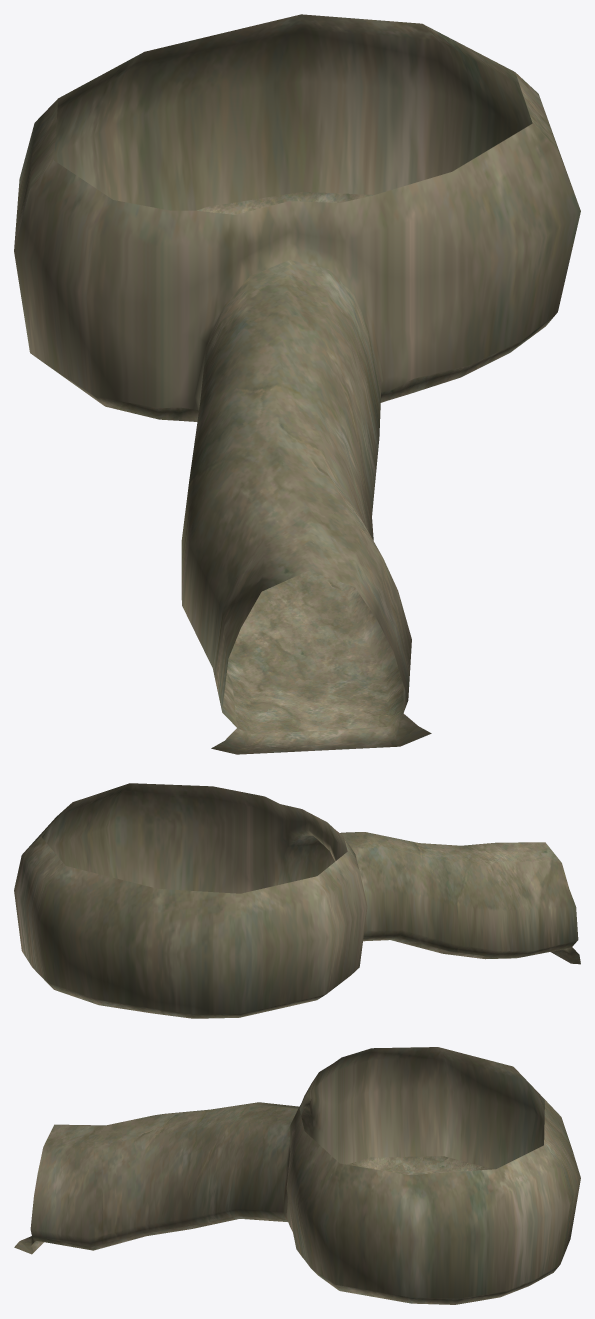
Rendered from OVERHILL_A_01_OBJECT22.fbx.
3 renders of one model, top to bottom at view 1: azimuth 30°, elevation 25°; view 2: azimuth 150°, elevation 25°; view 3: azimuth 270°, elevation 25°, orthographic. The views are drawn at different scales.
Parts seen in each view (by area): view 1: OVERHILL_A_01_OBJECT22; view 2: OVERHILL_A_01_OBJECT22; view 3: OVERHILL_A_01_OBJECT22.
Part boxes in pixels (box(x1,y1,x2,y2)): OVERHILL_A_01_OBJECT22: box(14, 14, 580, 754); OVERHILL_A_01_OBJECT22: box(14, 783, 580, 1018); OVERHILL_A_01_OBJECT22: box(14, 1047, 580, 1304).
Bounding box in the file's own units: 110755 × 58591 × 144966.
1 material, 1 textured.
